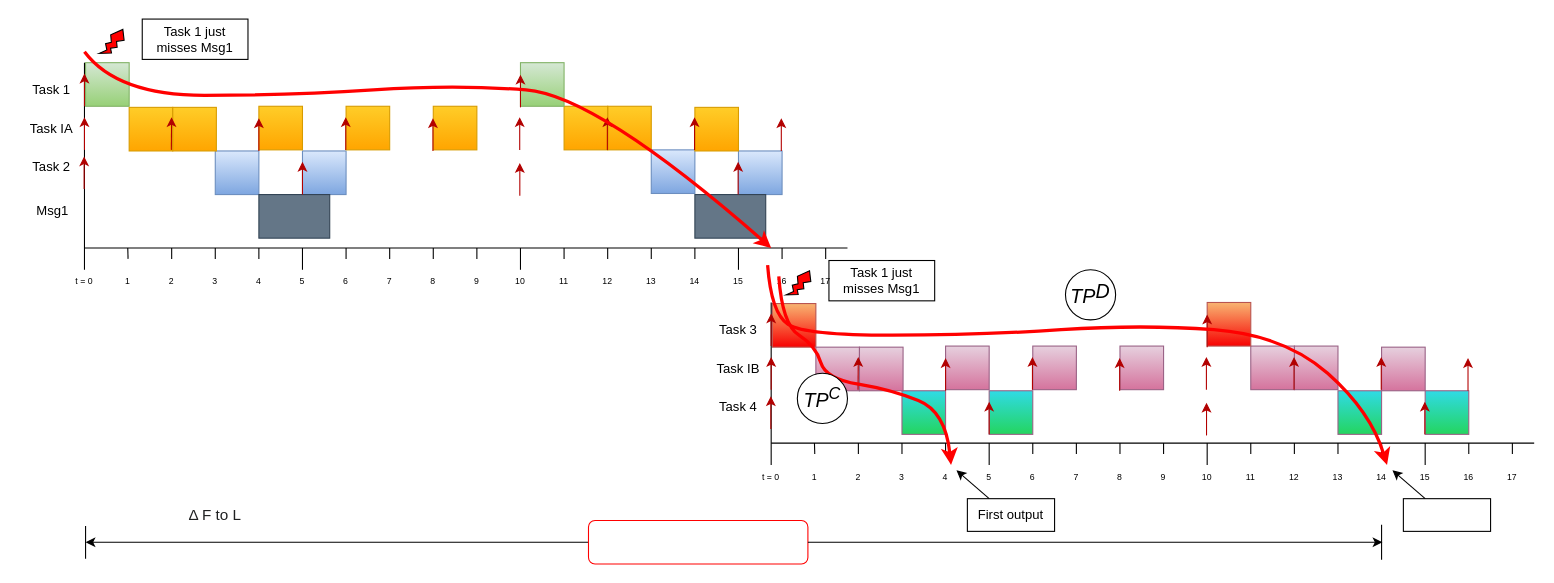
This 1554x583 diagram has some shape labels left out. Each missing label, with the centre of its shape:
last output: point 1446,514
Reaction Delay: point 697,541
